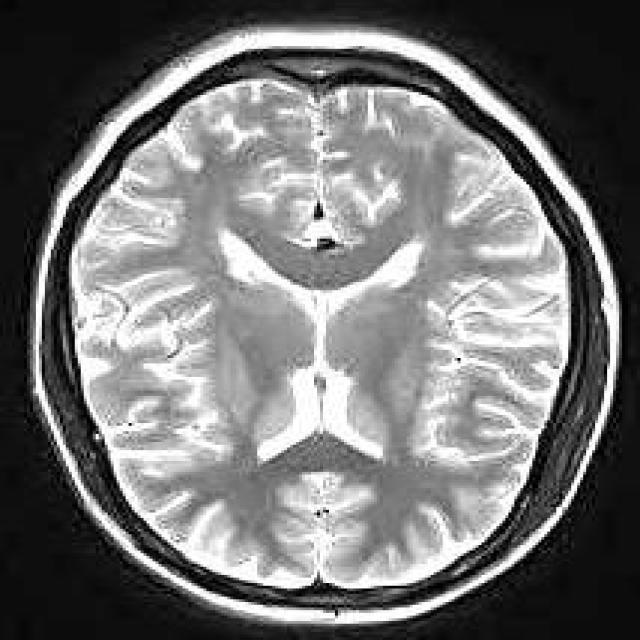No_Tumor: (31, 28, 620, 623)
